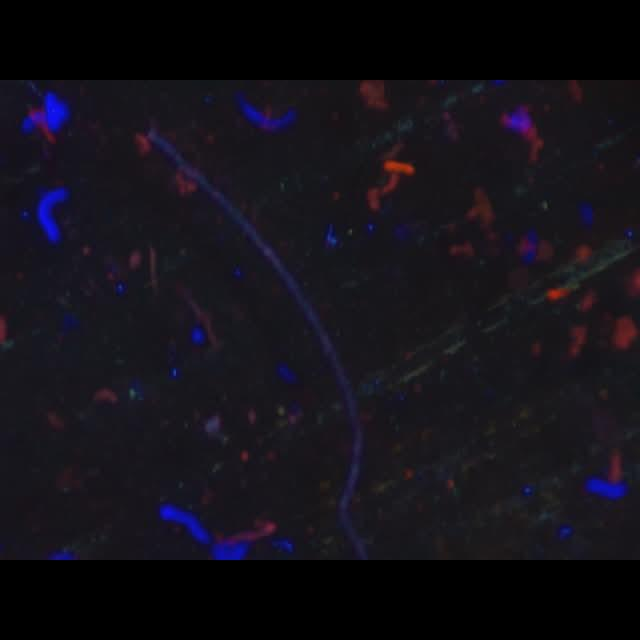Fragment: (368, 158, 414, 212)
